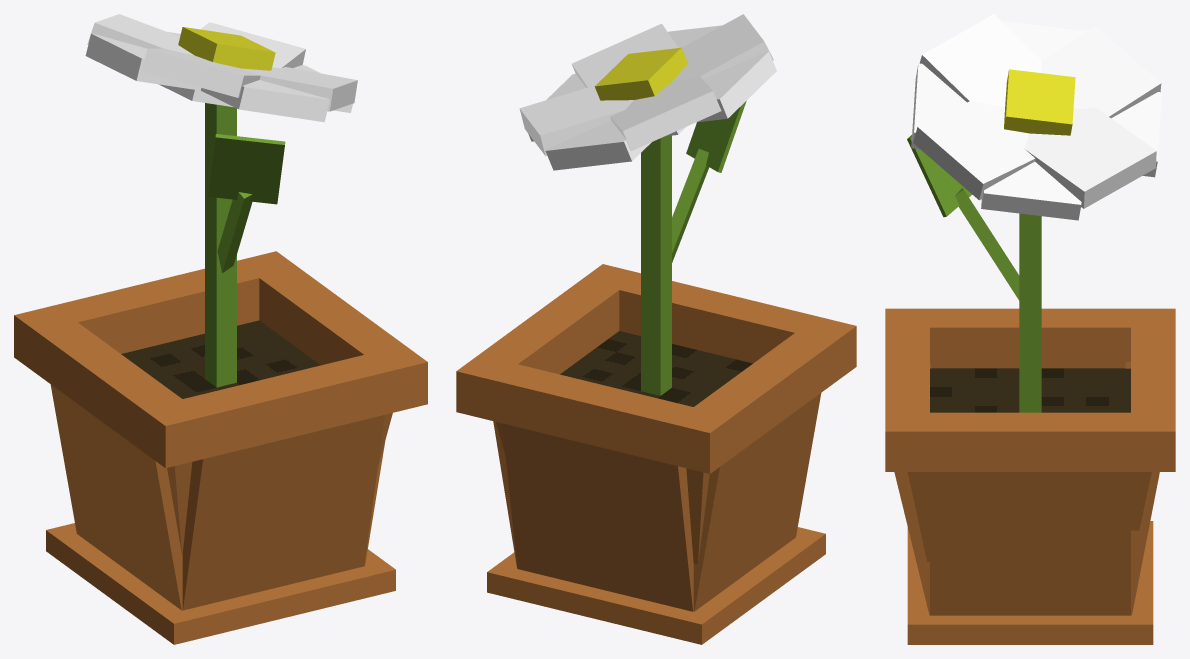
File: whiteFlower.gltf
3 views of the same model, side by side, from view 1: azimuth 30°, elevation 25°; view 2: azimuth 150°, elevation 25°; view 3: azimuth 270°, elevation 25° (orthographic). The views are drawn at different scales.
Visible parts, largest first — view 1: c386d314-3f14-a0c6-fb75-f23cae18e5c2, 672104b6-c339-0f69-8119-120f28f9a933, 333c50d1-6a4a-8e58-b46b-c3d28cb64dc6, 06aabd16-3349-5bdf-8498-73f4c8db711b, c23cc15e-de04-6b69-7557-495be05f0663, 003d9cf4-38b9-7fdf-0eeb-8ae42016a5ac, ddc9255b-4930-0156-4b30-767f436a6501, 9e5a5c5c-ea0d-2c0c-b306-363fd2e89859, 2f95a8cc-bbbc-db35-044c-f79740e91d66, 923728d6-7e14-abfe-4ef2-f1e9526024a1, 6e9d4138-4100-a9bb-bcc9-680ca79e0740, fb4f10db-031a-c53a-c5c2-0aac2ff49b2d (+7 smaller); view 2: 8da8971f-34cf-860c-c80f-5ca8d388a872, ddc9255b-4930-0156-4b30-767f436a6501, 333c50d1-6a4a-8e58-b46b-c3d28cb64dc6, 06aabd16-3349-5bdf-8498-73f4c8db711b, c23cc15e-de04-6b69-7557-495be05f0663, 672104b6-c339-0f69-8119-120f28f9a933, 003d9cf4-38b9-7fdf-0eeb-8ae42016a5ac, 2f95a8cc-bbbc-db35-044c-f79740e91d66, 9e5a5c5c-ea0d-2c0c-b306-363fd2e89859, 5e36d5f6-5c8c-c5db-3223-4b51d02703ab, 0cba9fad-0adc-b3a2-8696-2442c2e0c0a3, fb4f10db-031a-c53a-c5c2-0aac2ff49b2d (+8 smaller); view 3: f6d80f8a-b22c-4a03-d54f-698e41473893, 003d9cf4-38b9-7fdf-0eeb-8ae42016a5ac, c23cc15e-de04-6b69-7557-495be05f0663, 06aabd16-3349-5bdf-8498-73f4c8db711b, 9e5a5c5c-ea0d-2c0c-b306-363fd2e89859, 0cba9fad-0adc-b3a2-8696-2442c2e0c0a3, 672104b6-c339-0f69-8119-120f28f9a933, ddc9255b-4930-0156-4b30-767f436a6501, 70e2d5b8-fb36-3673-6394-4382a56b1b57, 6e9d4138-4100-a9bb-bcc9-680ca79e0740, 5e36d5f6-5c8c-c5db-3223-4b51d02703ab, 08eeee49-d1c8-8403-e501-237fbcf2336f (+9 smaller).
Part boxes in pixels (x1,y1,x2,y2): c386d314-3f14-a0c6-fb75-f23cae18e5c2: [182, 415, 384, 610]; 672104b6-c339-0f69-8119-120f28f9a933: [142, 355, 427, 468]; 333c50d1-6a4a-8e58-b46b-c3d28cb64dc6: [50, 384, 182, 610]; 06aabd16-3349-5bdf-8498-73f4c8db711b: [46, 523, 395, 644]; c23cc15e-de04-6b69-7557-495be05f0663: [14, 305, 205, 467]; 003d9cf4-38b9-7fdf-0eeb-8ae42016a5ac: [237, 251, 427, 413]; ddc9255b-4930-0156-4b30-767f436a6501: [14, 251, 299, 373]; 9e5a5c5c-ea0d-2c0c-b306-363fd2e89859: [121, 320, 320, 398]; 2f95a8cc-bbbc-db35-044c-f79740e91d66: [205, 103, 236, 387]; 923728d6-7e14-abfe-4ef2-f1e9526024a1: [208, 134, 285, 204]; 6e9d4138-4100-a9bb-bcc9-680ca79e0740: [141, 48, 260, 97]; fb4f10db-031a-c53a-c5c2-0aac2ff49b2d: [168, 32, 329, 122]; 8da8971f-34cf-860c-c80f-5ca8d388a872: [502, 423, 693, 611]; ddc9255b-4930-0156-4b30-767f436a6501: [456, 364, 732, 473]; 333c50d1-6a4a-8e58-b46b-c3d28cb64dc6: [693, 393, 821, 611]; 06aabd16-3349-5bdf-8498-73f4c8db711b: [487, 527, 825, 644]; c23cc15e-de04-6b69-7557-495be05f0663: [671, 324, 856, 473]; 672104b6-c339-0f69-8119-120f28f9a933: [580, 264, 856, 382]; 003d9cf4-38b9-7fdf-0eeb-8ae42016a5ac: [456, 264, 640, 421]; 2f95a8cc-bbbc-db35-044c-f79740e91d66: [641, 135, 671, 395]; 9e5a5c5c-ea0d-2c0c-b306-363fd2e89859: [560, 331, 752, 406]; 5e36d5f6-5c8c-c5db-3223-4b51d02703ab: [610, 76, 721, 150]; 0cba9fad-0adc-b3a2-8696-2442c2e0c0a3: [519, 85, 633, 156]; fb4f10db-031a-c53a-c5c2-0aac2ff49b2d: [545, 25, 722, 170]; f6d80f8a-b22c-4a03-d54f-698e41473893: [930, 472, 1130, 615]; 003d9cf4-38b9-7fdf-0eeb-8ae42016a5ac: [885, 412, 1175, 471]; c23cc15e-de04-6b69-7557-495be05f0663: [885, 308, 1175, 368]; 06aabd16-3349-5bdf-8498-73f4c8db711b: [907, 521, 1153, 644]; 9e5a5c5c-ea0d-2c0c-b306-363fd2e89859: [930, 368, 1130, 412]; 0cba9fad-0adc-b3a2-8696-2442c2e0c0a3: [1024, 108, 1156, 208]; 672104b6-c339-0f69-8119-120f28f9a933: [885, 308, 929, 471]; ddc9255b-4930-0156-4b30-767f436a6501: [1131, 308, 1175, 471]; 70e2d5b8-fb36-3673-6394-4382a56b1b57: [913, 101, 1035, 200]; 6e9d4138-4100-a9bb-bcc9-680ca79e0740: [919, 14, 1041, 106]; 5e36d5f6-5c8c-c5db-3223-4b51d02703ab: [1041, 26, 1161, 118]; 08eeee49-d1c8-8403-e501-237fbcf2336f: [981, 21, 1086, 220].
Size of the model in its own units: 0.8125 by 1.65 by 0.8125.
Materials: 5 (5 with a texture image).
